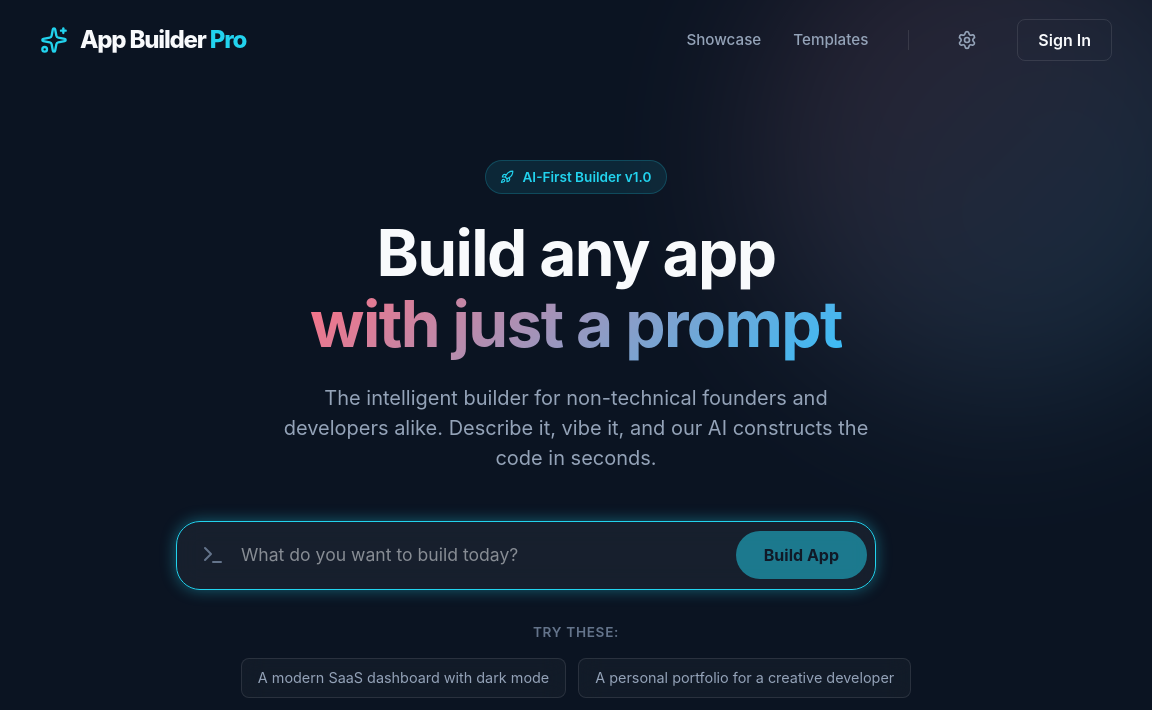
Scenario: LandingPage › Interactions › enables submit button when prompt has content
User types prompt
Type "A test app" into the field with placeholder "What do you want to build today?" at (480, 555), box [241,530,720,581]
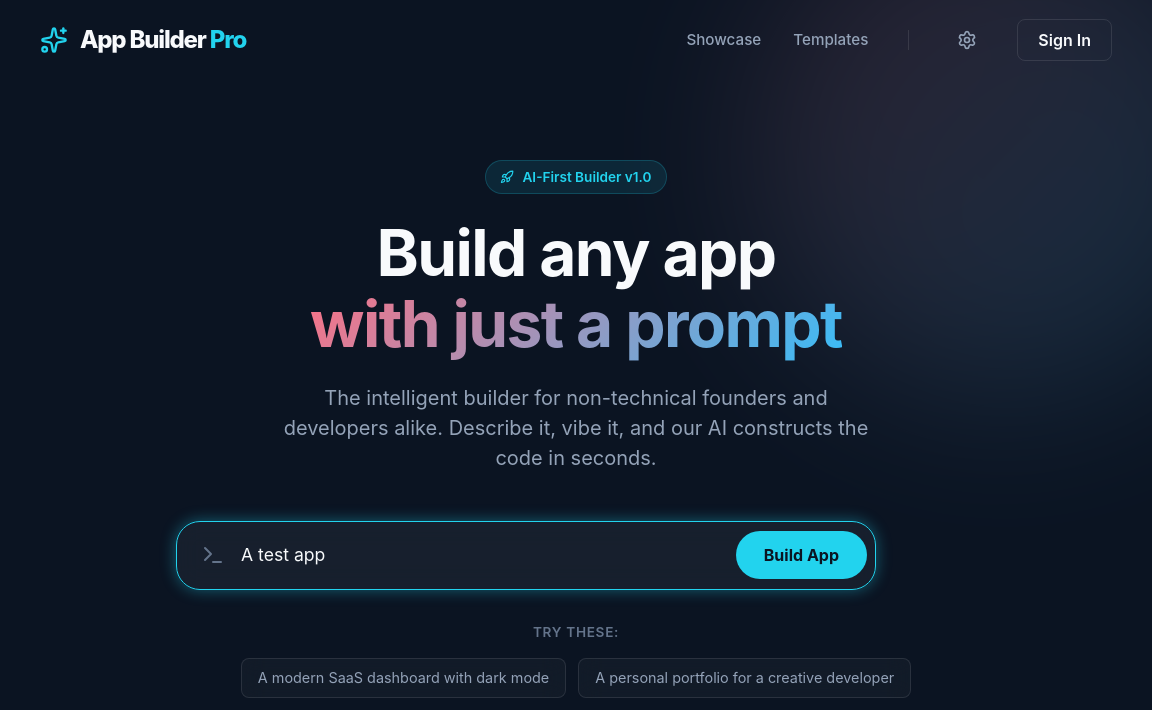
Check: the button "Build App" is enabled, box [736,531,867,579]
